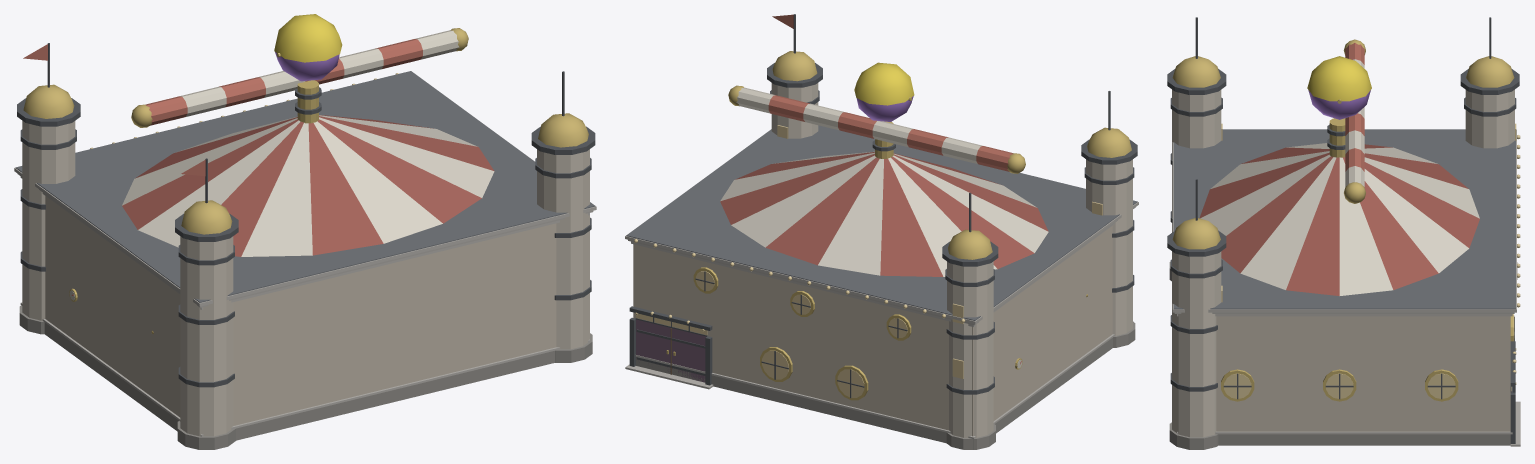
The model's file is centro-gincana-8ab00e0e.glb.
The picture shows the model from 3 angles, left to right: view 1: azimuth 30°, elevation 25°; view 2: azimuth 150°, elevation 25°; view 3: azimuth 270°, elevation 25°; orthographic projection. The views are drawn at different scales.
Visible parts, largest first — view 1: centro_gincana_body, centro_gincana_wall; view 2: centro_gincana_body, centro_gincana_wall, centro_gincana_lamp; view 3: centro_gincana_body, centro_gincana_wall, centro_gincana_lamp.
Part boxes in pixels (x1=…): centro_gincana_body: x1=14, y1=14, x2=596, y2=449; centro_gincana_wall: x1=44, y1=196, x2=556, y2=440; centro_gincana_body: x1=625, y1=14, x2=1138, y2=449; centro_gincana_wall: x1=633, y1=226, x2=1112, y2=449; centro_gincana_lamp: x1=634, y1=125, x2=1102, y2=397; centro_gincana_body: x1=1167, y1=17, x2=1520, y2=449; centro_gincana_wall: x1=1216, y1=316, x2=1510, y2=445; centro_gincana_lamp: x1=1221, y1=123, x2=1520, y2=398.
Bounding box in the file's own units: 17.32 × 12.92 × 13.86.
